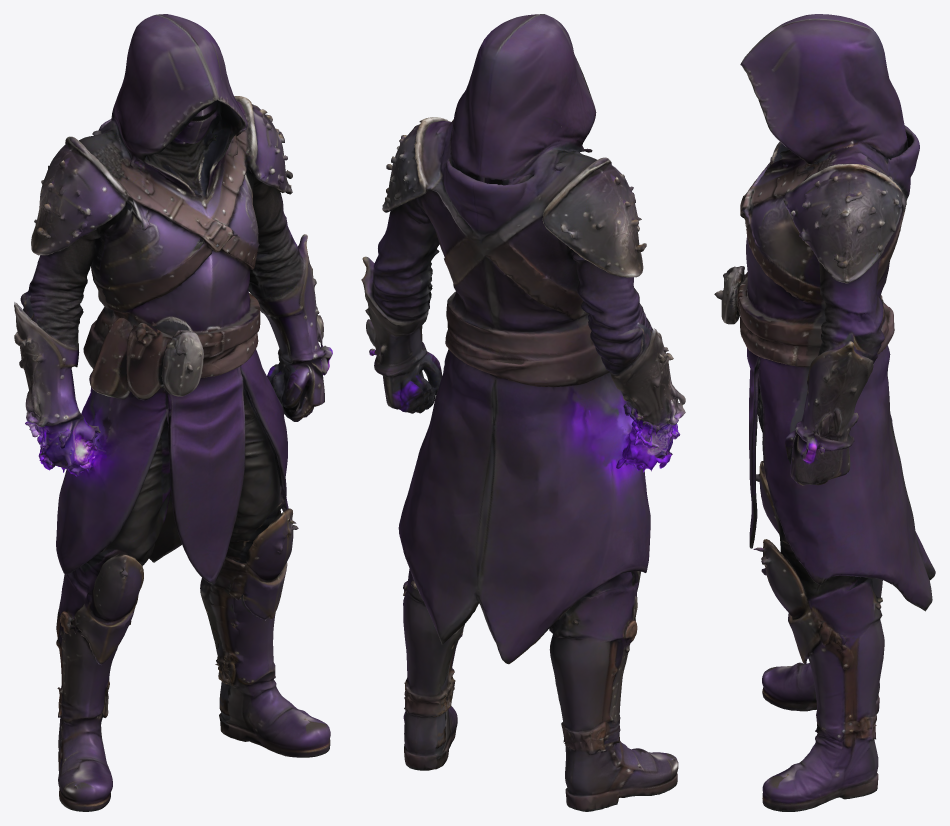
File: Meshy_AI_Nightshade_Specter_1115233005_texture.glb
The picture shows the model from 3 angles, left to right: view 1: azimuth 30°, elevation 25°; view 2: azimuth 150°, elevation 25°; view 3: azimuth 270°, elevation 25°; orthographic projection. The views are drawn at different scales.
Bounding box in the file's own units: 0.8626 × 2 × 0.5497.
1 material, 1 textured.
